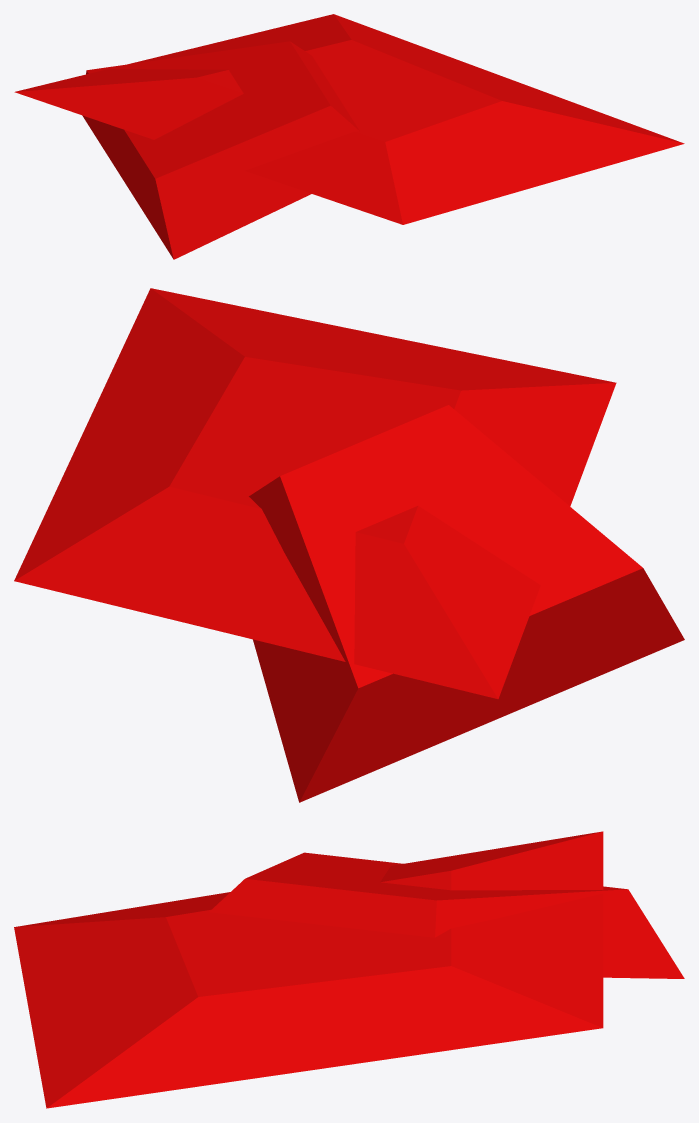
The model's file is SM_Env_RoadPiece_Damaged_01_Collision.fbx.
3 views of the same model, one above another, from view 1: azimuth 30°, elevation 25°; view 2: azimuth 150°, elevation 25°; view 3: azimuth 270°, elevation 25° (orthographic). The views are drawn at different scales.
Parts seen in each view (by area): view 1: SM_Env_RoadPiece_Damaged_01_Collision; view 2: SM_Env_RoadPiece_Damaged_01_Collision; view 3: SM_Env_RoadPiece_Damaged_01_Collision.
Part boxes in pixels (box(x1,y1,x2,y2)): SM_Env_RoadPiece_Damaged_01_Collision: box(14, 14, 684, 259); SM_Env_RoadPiece_Damaged_01_Collision: box(14, 288, 684, 802); SM_Env_RoadPiece_Damaged_01_Collision: box(14, 831, 684, 1108).
Size of the model in its own units: 808 by 200 by 827.
